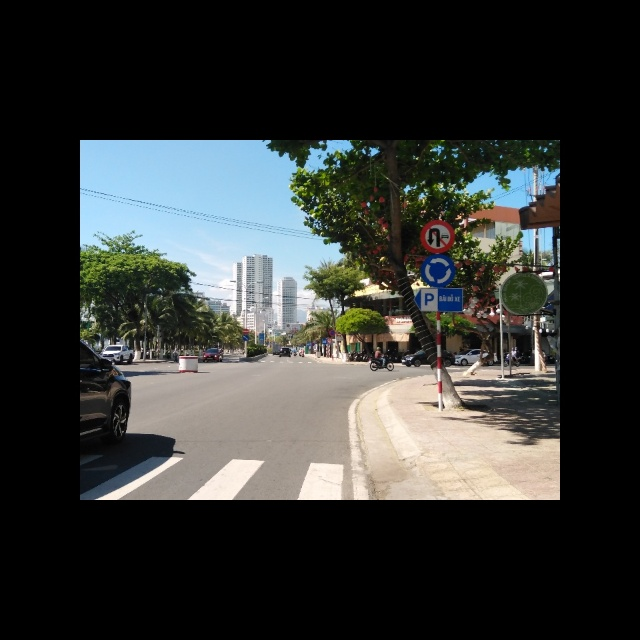Cấm xe ô tô quay đầu: (420, 221, 456, 255)
Nơi giao nhau chạy theo vòng xuyến: (419, 255, 454, 287)
Nơi đỗ xe: (412, 288, 463, 311)
